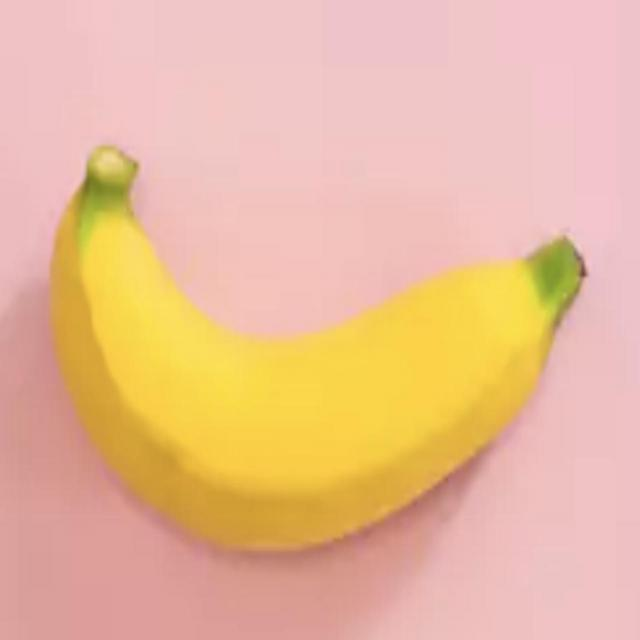banana: (9, 112, 636, 545)
